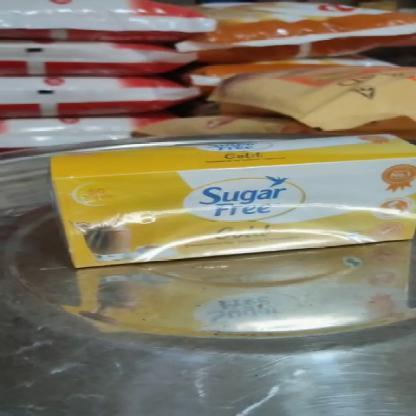SUGAR FREE GOLD SACHET 50: (66, 168, 406, 249)
